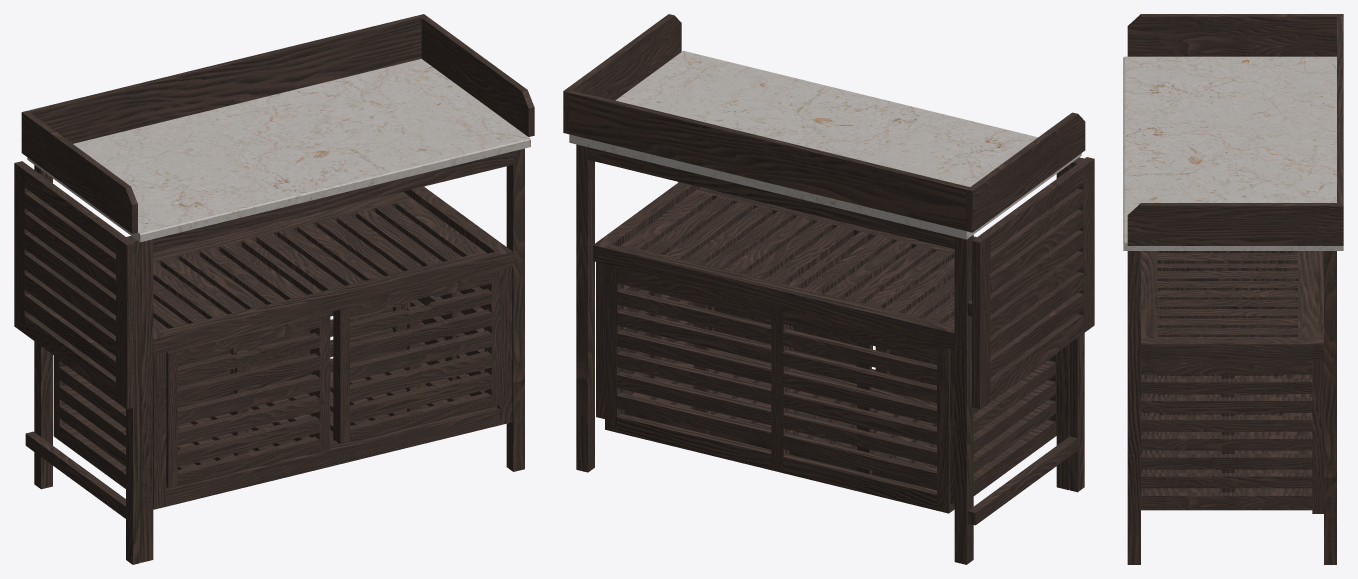
The model's file is workBenchM.gltf.
3 views of the same model, side by side, from view 1: azimuth 30°, elevation 25°; view 2: azimuth 150°, elevation 25°; view 3: azimuth 270°, elevation 25° (orthographic). The views are drawn at different scales.
Visible parts, largest first — view 1: workBench, stoneBench, benchExtend, door, door1, legExtend1; view 2: workBench, stoneBench, benchExtend, legExtend1, door1; view 3: workBench, stoneBench.
Part boxes in pixels (x1=…): workBench: x1=21, y1=14, x2=534, y2=562; stoneBench: x1=27, y1=59, x2=530, y2=242; benchExtend: x1=14, y1=161, x2=134, y2=408; door: x1=166, y1=312, x2=330, y2=488; door1: x1=333, y1=271, x2=502, y2=444; legExtend1: x1=25, y1=236, x2=140, y2=564; workBench: x1=563, y1=14, x2=1085, y2=564; stoneBench: x1=569, y1=51, x2=1081, y2=239; benchExtend: x1=972, y1=157, x2=1094, y2=409; legExtend1: x1=967, y1=157, x2=1084, y2=525; door1: x1=708, y1=306, x2=872, y2=366; workBench: x1=1127, y1=14, x2=1343, y2=564; stoneBench: x1=1123, y1=56, x2=1343, y2=250.
Bounding box in the file's own units: 10.48 × 9.1 × 5.
2 materials, 2 textured.
